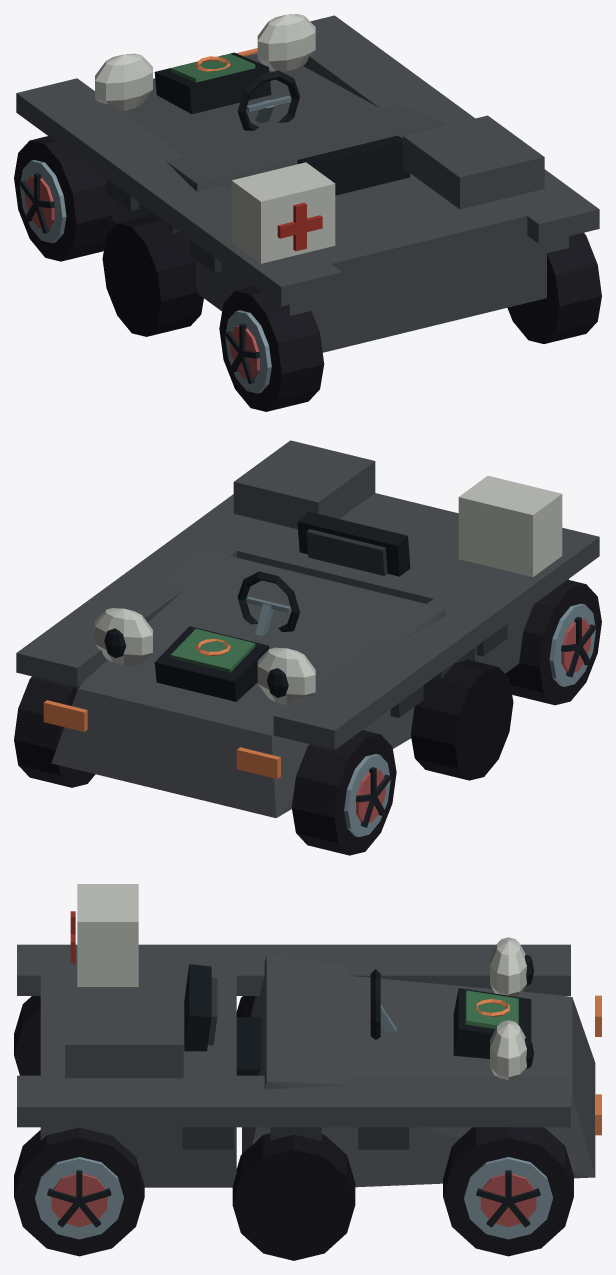
File: kart.glb
3 renders of one model, top to bottom at view 1: azimuth 30°, elevation 25°; view 2: azimuth 150°, elevation 25°; view 3: azimuth 270°, elevation 25°, orthographic. The views are drawn at different scales.
Parts seen in each view (by area): view 1: identity-apc-apc-armored-hull, wheel-rear-left, wheel-front-left, identity-apc-motif-medical, wheel-rear-right, identity-apc-driver-cockpit, identity-apc-motif-eyes, identity-apc-motif-scanner; view 2: identity-apc-apc-armored-hull, wheel-front-left, identity-apc-motif-medical, wheel-rear-left, identity-apc-driver-cockpit, identity-apc-motif-scanner, identity-apc-motif-eyes, wheel-front-right; view 3: identity-apc-apc-armored-hull, wheel-front-right, wheel-rear-right, identity-apc-motif-medical, identity-apc-driver-cockpit, identity-apc-motif-eyes, identity-apc-motif-scanner, wheel-rear-left.
Boxes of the visible parts, x1,y1,x2,y2 form: identity-apc-apc-armored-hull: (16, 15, 599, 352); wheel-rear-left: (219, 286, 324, 411); wheel-front-left: (14, 136, 116, 261); identity-apc-motif-medical: (231, 162, 335, 263); wheel-rear-right: (507, 233, 601, 343); identity-apc-driver-cockpit: (237, 70, 410, 195); identity-apc-motif-eyes: (95, 14, 315, 110); identity-apc-motif-scanner: (154, 52, 271, 114); identity-apc-apc-armored-hull: (16, 440, 599, 817); wheel-front-left: (291, 730, 396, 855); identity-apc-motif-medical: (458, 475, 562, 577); wheel-rear-left: (505, 580, 601, 705); identity-apc-driver-cockpit: (237, 511, 410, 635); identity-apc-motif-scanner: (154, 626, 269, 701); identity-apc-motif-eyes: (95, 608, 315, 704); wheel-front-right: (14, 676, 95, 787); identity-apc-apc-armored-hull: (17, 944, 601, 1260); wheel-front-right: (443, 1127, 573, 1256); wheel-rear-right: (14, 1127, 144, 1256); identity-apc-motif-medical: (70, 884, 138, 986); identity-apc-driver-cockpit: (184, 964, 396, 1075); identity-apc-motif-eyes: (490, 937, 533, 1079); identity-apc-motif-scanner: (453, 988, 531, 1058); wheel-rear-left: (14, 996, 40, 1075).
Size of the model in its own units: 2.08 by 1.15 by 2.88.
